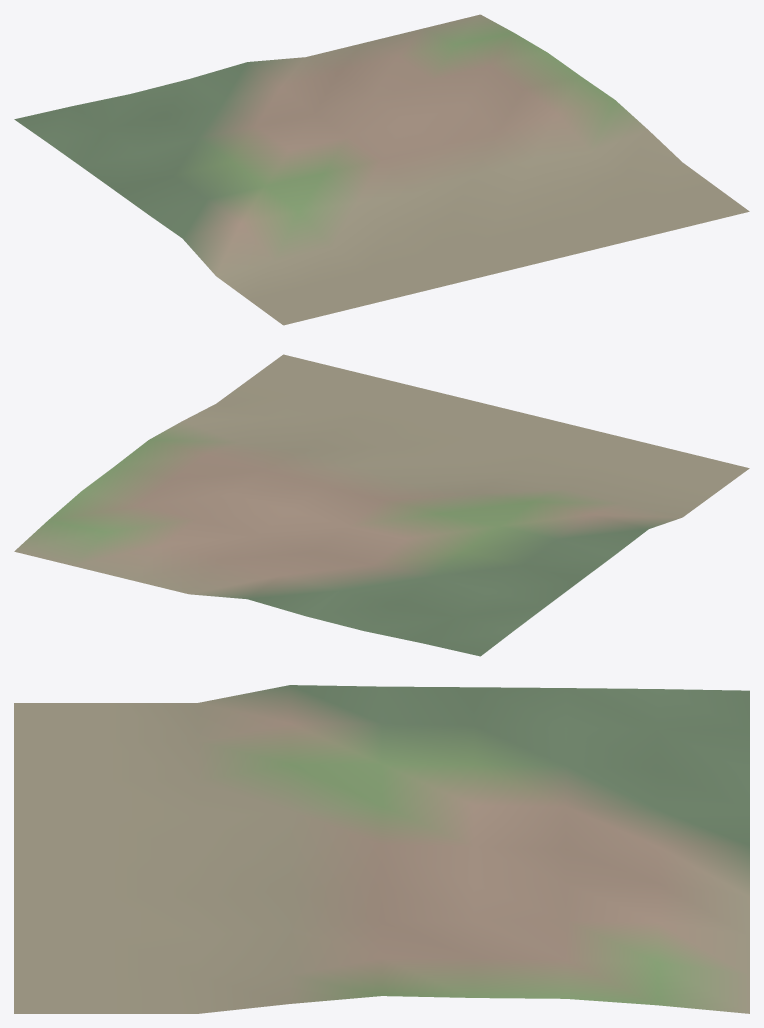
The picture shows the model from 3 angles, top to bottom: view 1: azimuth 30°, elevation 25°; view 2: azimuth 150°, elevation 25°; view 3: azimuth 270°, elevation 25°; orthographic projection. The views are drawn at different scales.
Visible parts, largest first — view 1: Lo; view 2: Lo; view 3: Lo.
Part boxes in pixels (left/top/right/bottom): Lo: left=14, top=14, right=749, bottom=325; Lo: left=14, top=354, right=749, bottom=656; Lo: left=14, top=685, right=749, bottom=1013.
Size of the model in its own units: 256 by 6.98 by 256.
